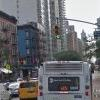Bus: (36, 56, 93, 100)
